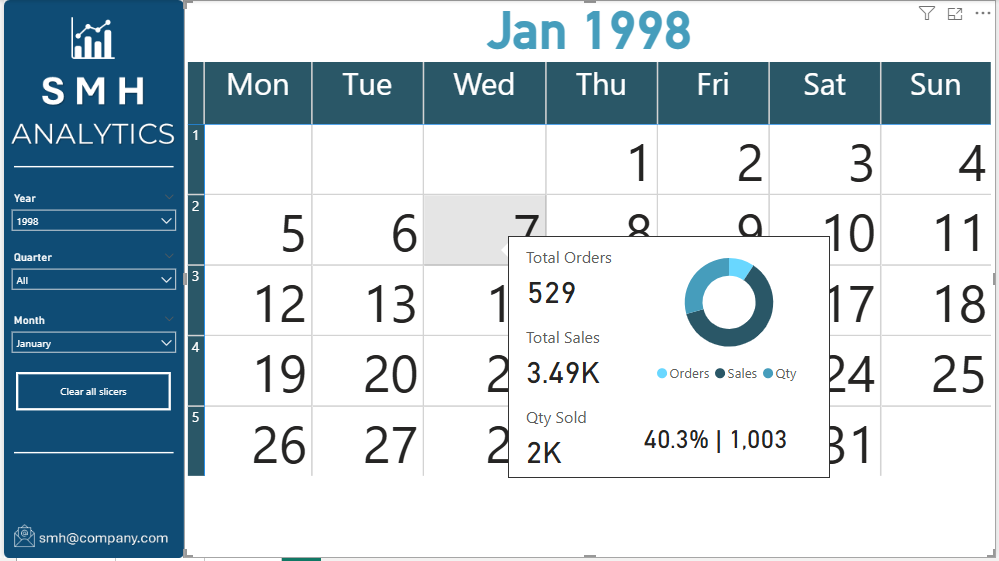

Layout of this report page (visuals, bound fields, positions):
{"tool":"powerbi","page":{"name":"Calendar","canvas":[1280,720],"ordinal":1},"visuals":[{"type":"slicer","fields":{"Values":["Calender Table.Date.Variation.Date Hierarchy.Year"]},"box":[0,242.4,232.4,80.8],"z":0},{"type":"slicer","fields":{"Values":["Calender Table.Date.Variation.Date Hierarchy.Quarter"]},"box":[0,318.9,232.4,80.8],"z":1000},{"type":"slicer","fields":{"Values":["Calender Table.Date.Variation.Date Hierarchy.Month"]},"box":[0,399.7,232.4,80.8],"z":2000},{"type":"actionButton","box":[15.6,480.5,199.8,49.6],"z":3000},{"type":"pivotTable","fields":{"Rows":["Calender Table.Week of Month"],"Columns":["Calender Table.Weekday Name"],"Values":["Calender Table.Day Value"]},"box":[232.9,0,1047.1,720.3],"z":4000}]}

Visuals, with their boxes in screenshot pixels (x1, y1, x2, y2), scaled from the page's 1280x720 canvas onto the 999x561 screenshot:
slicer - Calender Table.Date.Variation.Date Hierarchy.Year: (left=0, top=189, right=181, bottom=252)
slicer - Calender Table.Date.Variation.Date Hierarchy.Quarter: (left=0, top=248, right=181, bottom=311)
slicer - Calender Table.Date.Variation.Date Hierarchy.Month: (left=0, top=311, right=181, bottom=374)
actionButton: (left=12, top=374, right=168, bottom=413)
pivotTable - Calender Table.Week of Month x Calender Table.Weekday Name: (left=182, top=0, right=998, bottom=560)
